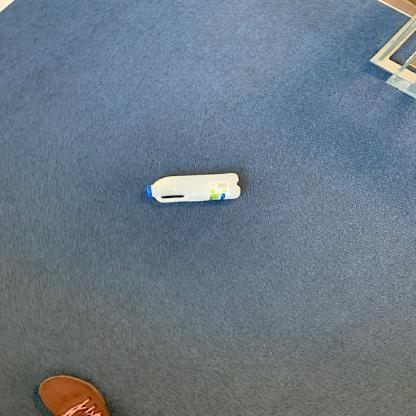trash: (146, 170, 245, 206)
